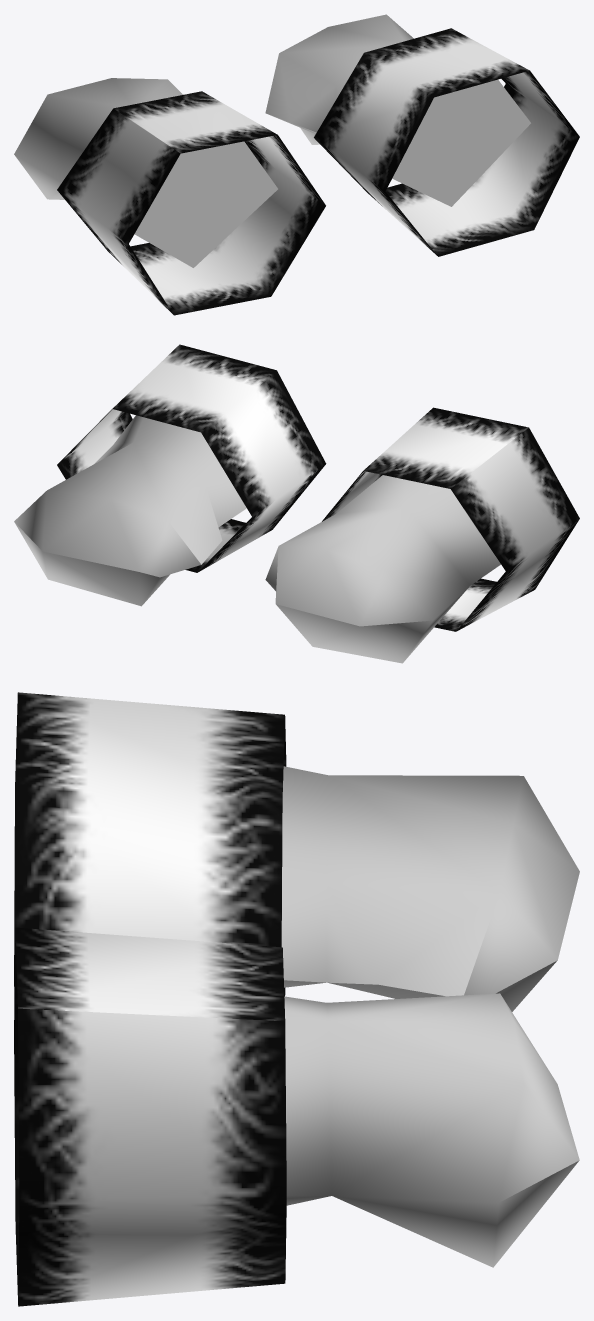
The model's file is Item13.obj.
3 views of the same model, one above another, from view 1: azimuth 30°, elevation 25°; view 2: azimuth 150°, elevation 25°; view 3: azimuth 270°, elevation 25° (orthographic). The views are drawn at different scales.
Visible parts, largest first — view 1: 0, 1; view 2: 0, 1; view 3: 1, 0.
Boxes of the visible parts, left/top/right/bottom form: 0: left=14, top=78, right=325, bottom=315; 1: left=265, top=14, right=579, bottom=256; 0: left=265, top=407, right=579, bottom=663; 1: left=14, top=344, right=326, bottom=606; 1: left=14, top=927, right=579, bottom=1306; 0: left=14, top=692, right=579, bottom=1011.
Size of the model in its own units: 16.53 by 5.8 by 9.81.
